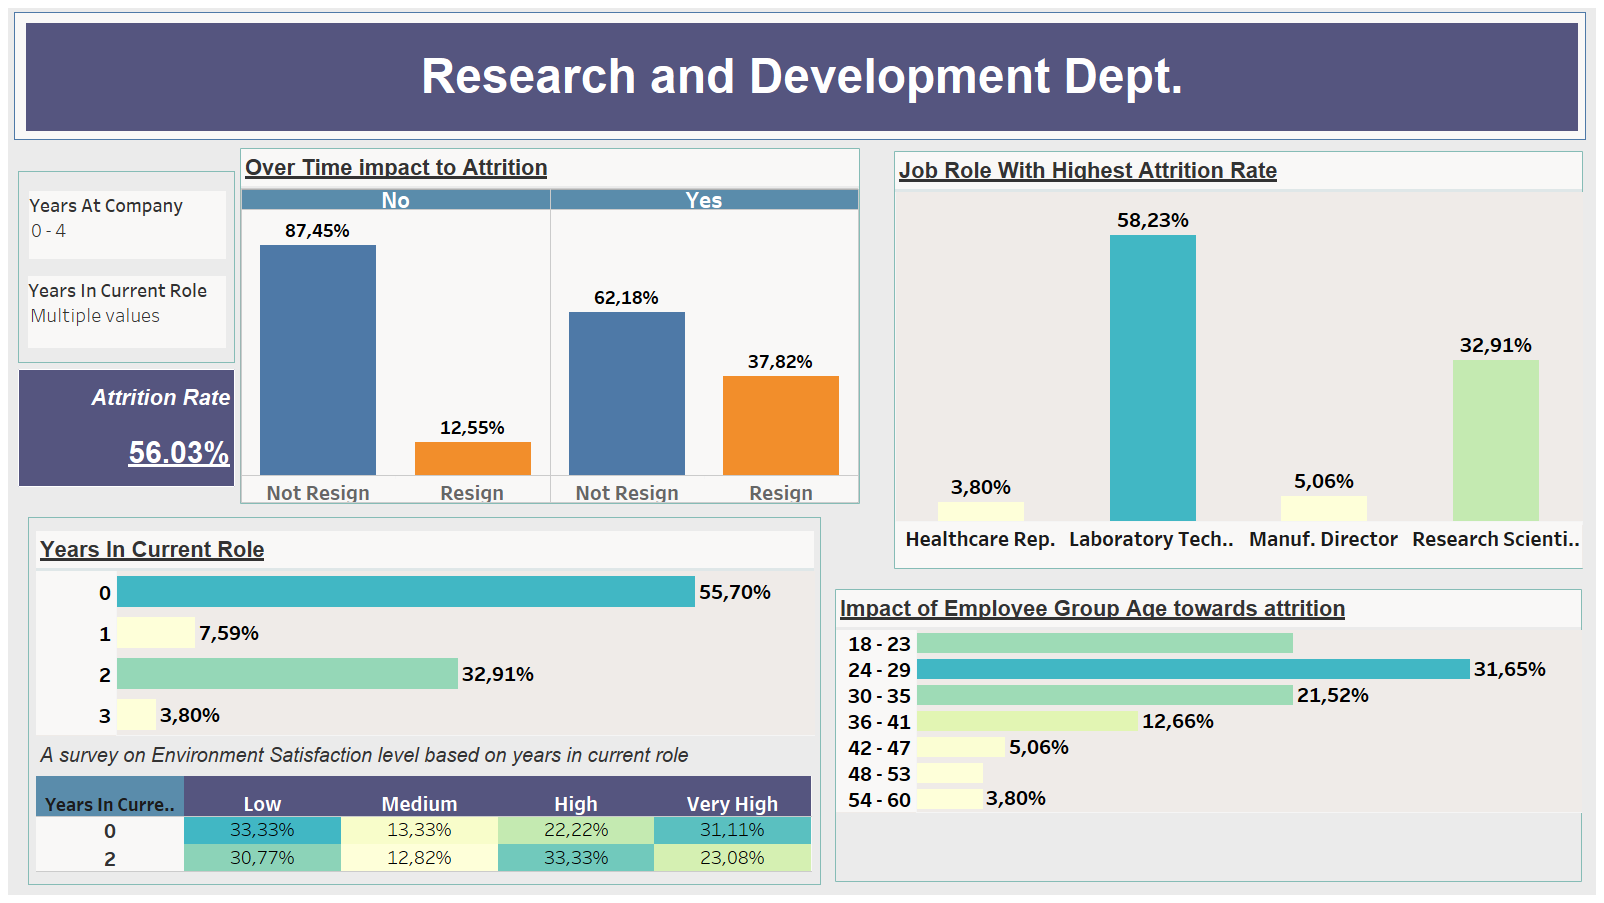

Layout of this report page (visuals, bound fields, positions):
{"tool":"tableau","page":{"name":"Dashboard_Rnd","canvas":[1000,1000],"units":"permille","ordinal":1},"visuals":[{"type":"blank","box":[8.7,13.5,980.1,141.9]},{"type":"text","box":[16.5,25,967,120.2]},{"type":"worksheet","title":"Rnd_Overtime","mark":"Automatic","cols":["OverTime","Attrition"],"box":[146.3,158.8,393.1,405.4]},{"type":"worksheet","title":"Rnd_jobrole","mark":"Automatic","rows":["EmployeeCount"],"cols":["JobRole"],"box":[557.6,167.2,429.4,462.8]},{"type":"blank","box":[11.3,189.2,135.1,212.8]},{"type":"filter","title":"Rnd_ currRole","param":"[federated.0cw0afy1n3x3ps108bnmo1yaweov].[Years At Company (group)]","box":[18.2,211.2,122.9,76]},{"type":"filter","title":"Rnd_environment","param":"[federated.0cw0afy1n3x3ps108bnmo1yaweov].[none:YearsInCurrentRole:ok]","box":[17.3,305.7,123.8,79.4]},{"type":"text","box":[11.3,408.8,135.1,130.1]},{"type":"blank","box":[17.3,572.6,494.4,407.1]},{"type":"worksheet","title":"Rnd_ currRole","mark":"Automatic","rows":["YearsInCurrentRole"],"cols":["EmployeeCount"],"box":[22.5,587.8,484.9,226.3]},{"type":"worksheet","title":"Rnd_Age","mark":"Automatic","cols":["EmployeeCount"],"box":[520.4,652,465.8,324.3]},{"type":"worksheet","title":"Rnd_environment","mark":"Square","rows":["YearsInCurrentRole"],"cols":["EnvironmentSatisfaction"],"box":[22.5,817.6,484,148.7]}]}

Visuals, with their boxes on the dashboard's canvas, which has no fixed pixel size, in thousandths of its width and height (x1, y1, x2, y2). These are canvas units, not pixel positions in the 1604x903 screenshot, which may show the page scaled, cropped or inside an application window:
blank: (9, 14, 989, 155)
text: (16, 25, 984, 145)
"Rnd_Overtime" worksheet: (146, 159, 539, 564)
"Rnd_jobrole" worksheet: (558, 167, 987, 630)
blank: (11, 189, 146, 402)
"Rnd_ currRole" filter: (18, 211, 141, 287)
"Rnd_environment" filter: (17, 306, 141, 385)
text: (11, 409, 146, 539)
blank: (17, 573, 512, 980)
"Rnd_ currRole" worksheet: (22, 588, 507, 814)
"Rnd_Age" worksheet: (520, 652, 986, 976)
"Rnd_environment" worksheet (Square marks): (22, 818, 506, 966)
